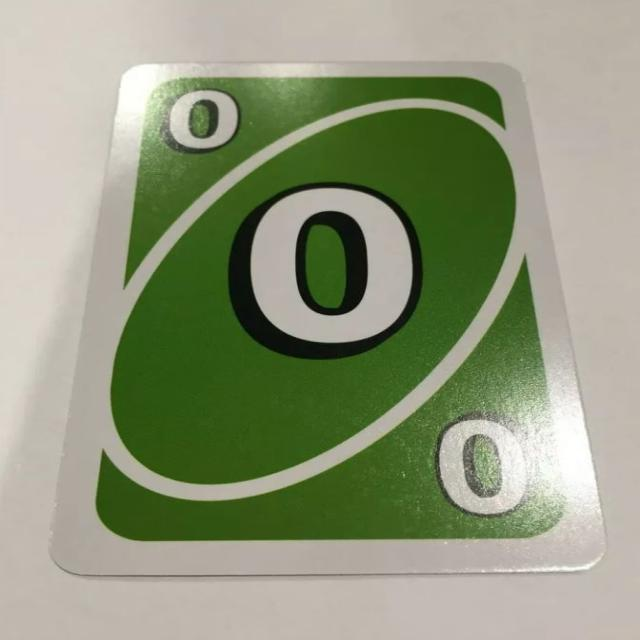Green_Card: (88, 71, 571, 549)
Number_0: (164, 84, 239, 157)
